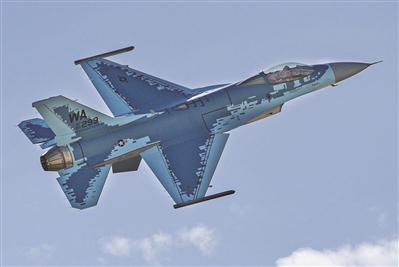airplane: (13, 40, 381, 211)
